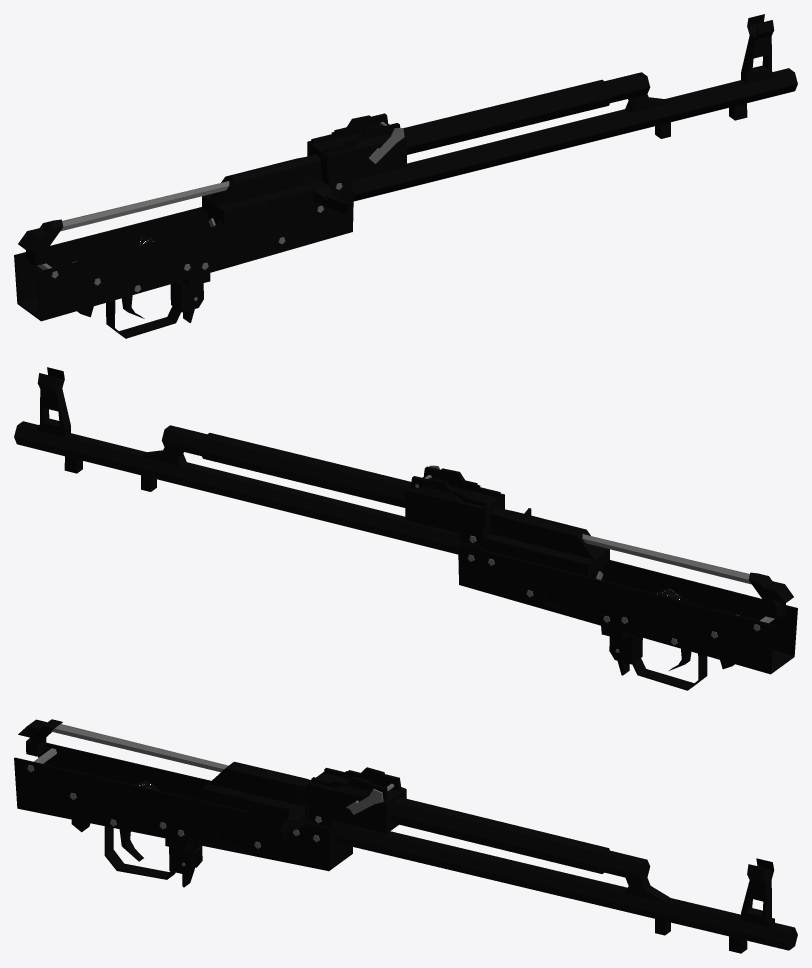
3 renders of one model, top to bottom at view 1: azimuth 30°, elevation 25°; view 2: azimuth 150°, elevation 25°; view 3: azimuth 330°, elevation 25°, orthographic.
Visible parts, largest first — view 1: Куб; view 2: Куб; view 3: Куб.
Boxes of the visible parts, box(x1,y1,x2,y2) form: Куб: box(14, 14, 797, 338); Куб: box(14, 367, 797, 690); Куб: box(14, 719, 797, 953).
Bounding box in the file's own units: 63.34 × 12.71 × 6.51.
